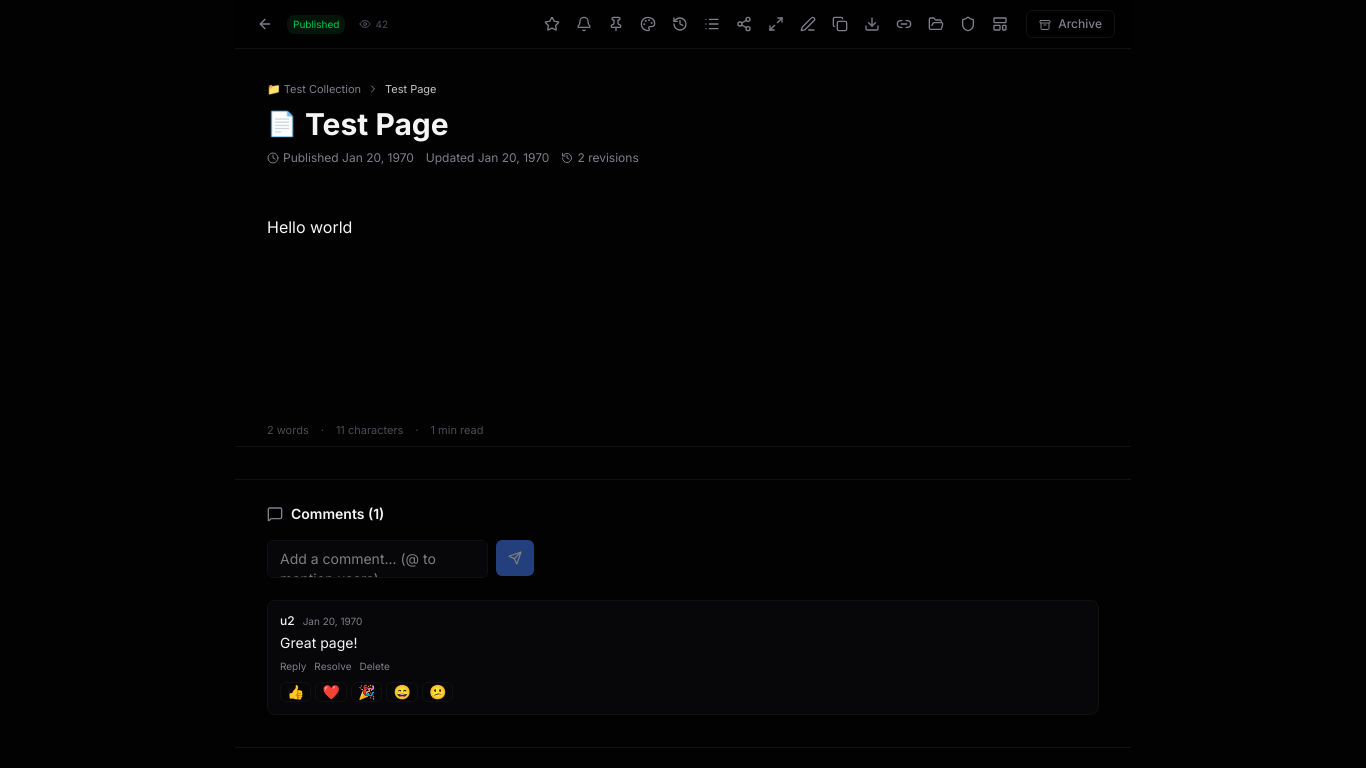
PageView › opens TOC panel when TOC button clicked
Click the button titled "Table of Contents" at [712, 24], box [698,10,726,38]
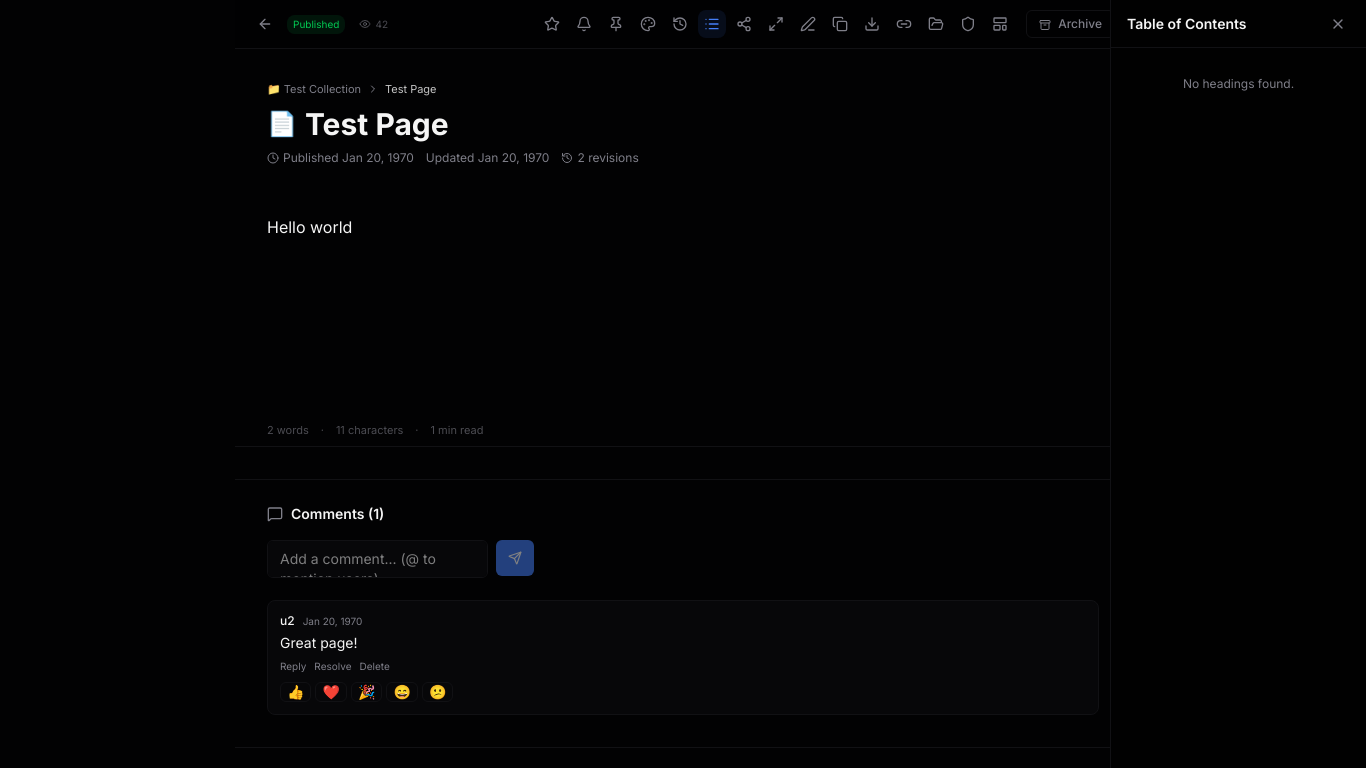
Check: the heading "Table of Contents" is shown, box [1127,14,1246,34]
